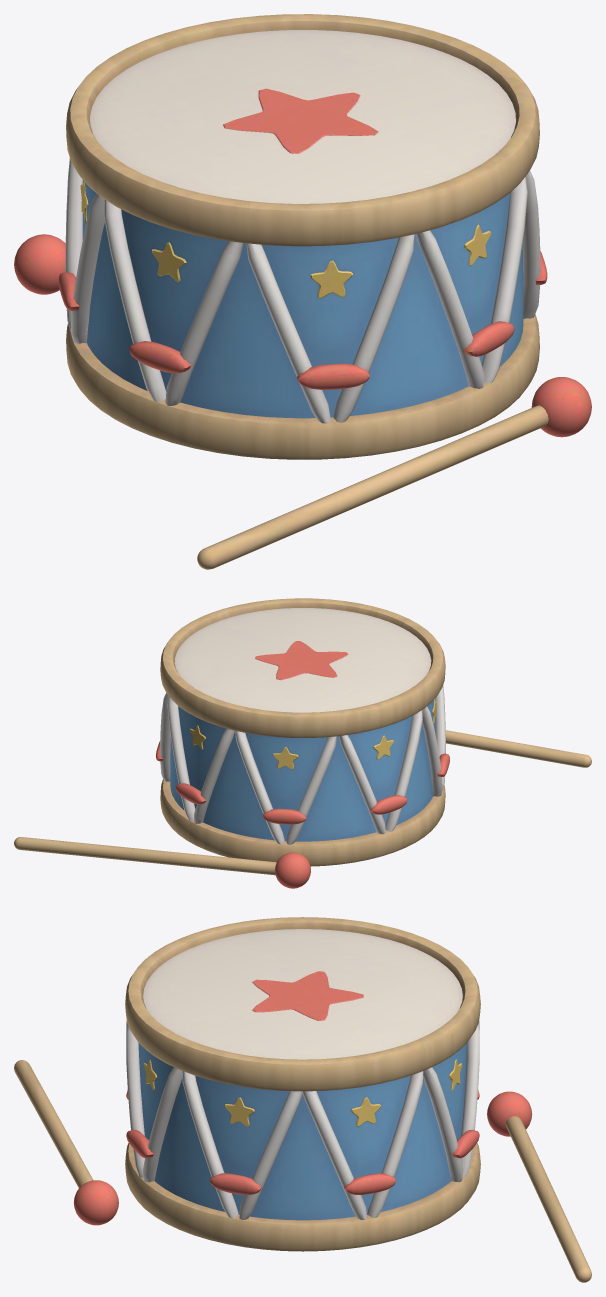
Rendered from tambor.glb.
3 views of the same model, one above another, from view 1: azimuth 30°, elevation 25°; view 2: azimuth 150°, elevation 25°; view 3: azimuth 270°, elevation 25° (orthographic). The views are drawn at different scales.
Parts seen in each view (by area): view 1: toy-drum_body; view 2: toy-drum_body; view 3: toy-drum_body.
Part boxes in pixels (box(x1,y1,x2,y2)): toy-drum_body: box(14, 14, 591, 569); toy-drum_body: box(14, 598, 591, 888); toy-drum_body: box(14, 917, 591, 1282).
Bounding box in the file's own units: 0.29 × 0.12 × 0.3321.
Materials: 1 (1 with a texture image).
